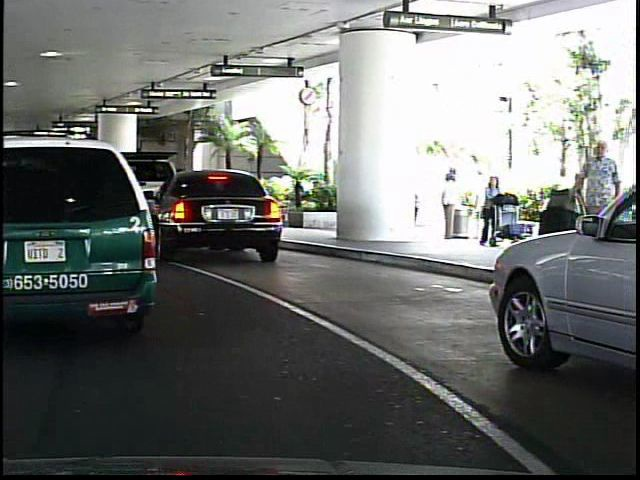person: (567, 132, 619, 288), (471, 172, 502, 253)
